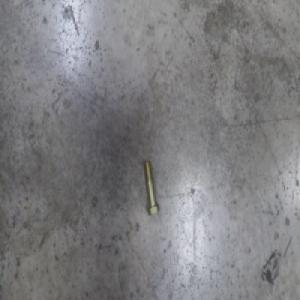Bolt: (143, 159, 160, 217)
